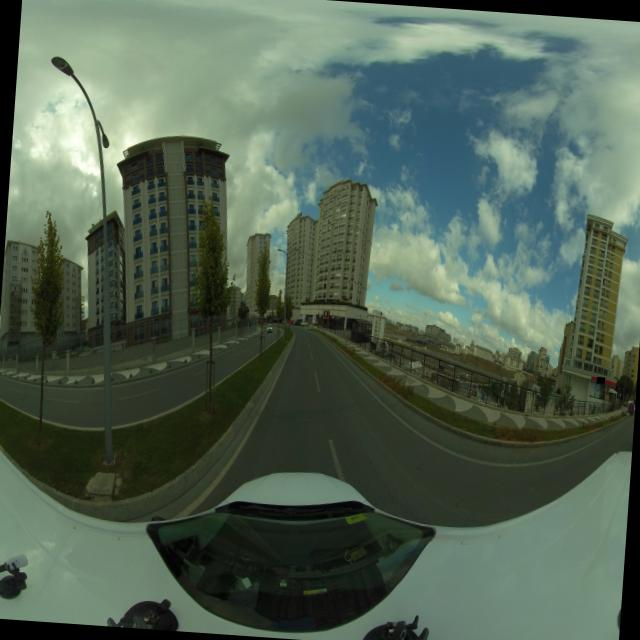SignStore: (596, 376, 605, 384)
